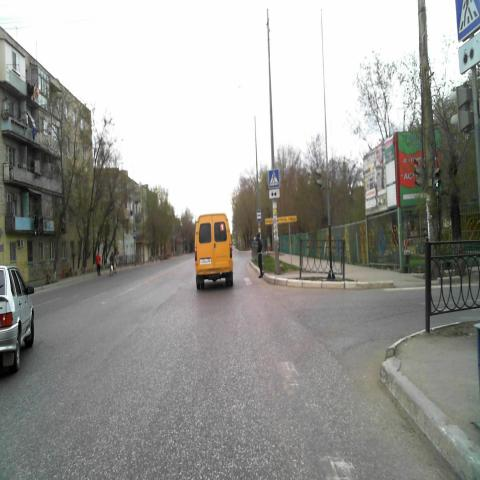5_16: (257, 210, 261, 222)
5_19_1: (268, 169, 280, 188)
8_15: (458, 40, 480, 72), (268, 188, 280, 198)
